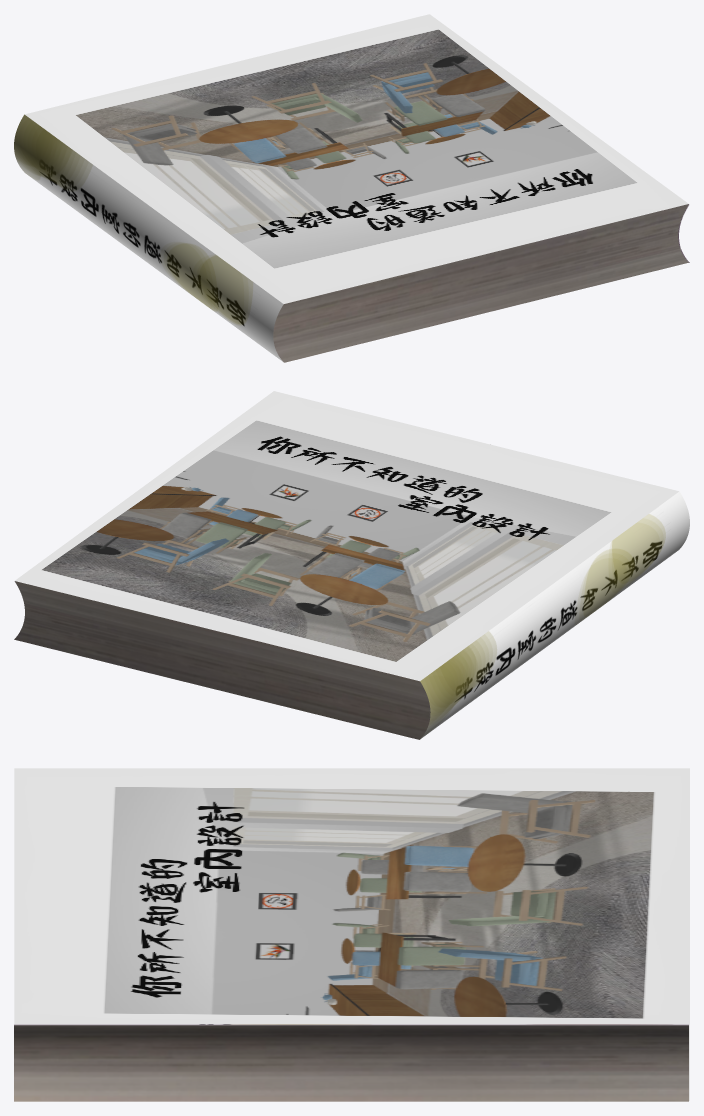
The model's file is book4.fbx.
The picture shows the model from 3 angles, top to bottom: view 1: azimuth 30°, elevation 25°; view 2: azimuth 150°, elevation 25°; view 3: azimuth 270°, elevation 25°; orthographic projection. The views are drawn at different scales.
Parts seen in each view (by area): view 1: Arc001; view 2: Arc001; view 3: Arc001, Arc002.
Boxes of the visible parts, x1,y1,x2,y2 form: Arc001: (14, 14, 688, 362); Arc001: (14, 391, 689, 739); Arc001: (14, 768, 689, 1100); Arc002: (14, 1024, 688, 1101).
Bounding box in the file's own units: 221 × 30.51 × 238.
Materials: 1 (1 with a texture image).
